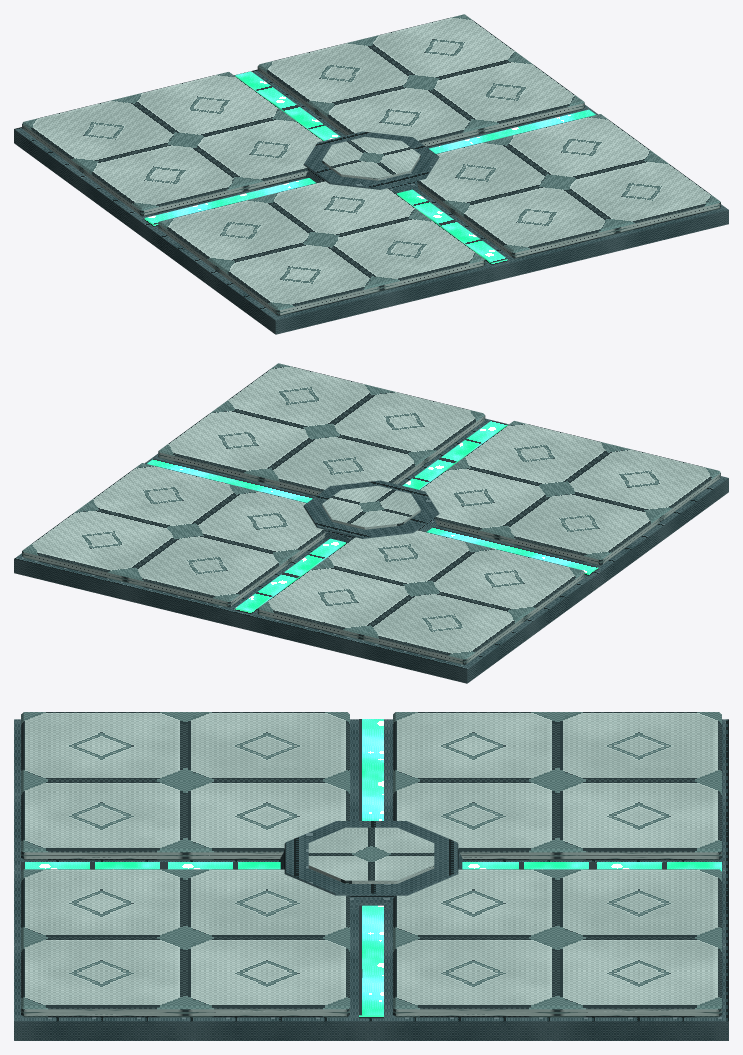
Rendered from floor_tile.glb.
3 views of the same model, one above another, from view 1: azimuth 30°, elevation 25°; view 2: azimuth 150°, elevation 25°; view 3: azimuth 270°, elevation 25° (orthographic). The views are drawn at different scales.
Parts seen in each view (by area): view 1: floor_tile__hosp_floor_hex, floor_tile__hosp_metal_trim, floor_tile__hosp_bio_glass; view 2: floor_tile__hosp_floor_hex, floor_tile__hosp_metal_trim, floor_tile__hosp_bio_glass; view 3: floor_tile__hosp_floor_hex, floor_tile__hosp_metal_trim, floor_tile__hosp_bio_glass.
Boxes of the visible parts, left/top/right/bottom form: floor_tile__hosp_floor_hex: left=22, top=14, right=720, bottom=316; floor_tile__hosp_metal_trim: left=14, top=69, right=728, bottom=334; floor_tile__hosp_bio_glass: left=144, top=71, right=595, bottom=264; floor_tile__hosp_floor_hex: left=22, top=363, right=720, bottom=665; floor_tile__hosp_metal_trim: left=14, top=418, right=728, bottom=683; floor_tile__hosp_bio_glass: left=147, top=420, right=598, bottom=613; floor_tile__hosp_floor_hex: left=21, top=712, right=721, bottom=1017; floor_tile__hosp_metal_trim: left=14, top=719, right=728, bottom=1040; floor_tile__hosp_bio_glass: left=21, top=719, right=721, bottom=1018.
Size of the model in its own units: 4 by 0.22 by 4.
3 materials, 3 textured.
